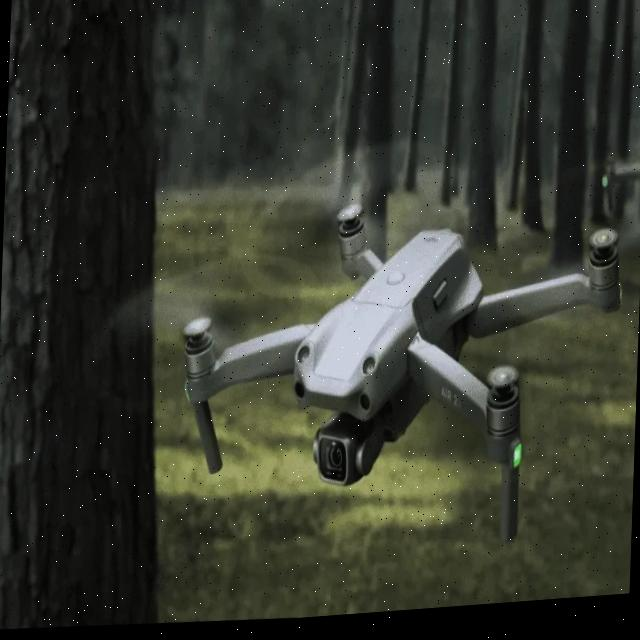drone: (82, 116, 640, 580)
